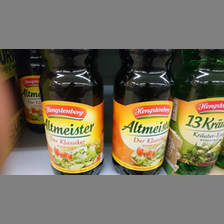vinegar: (37, 50, 107, 175), (112, 49, 173, 175), (173, 49, 224, 175), (17, 49, 49, 133)
